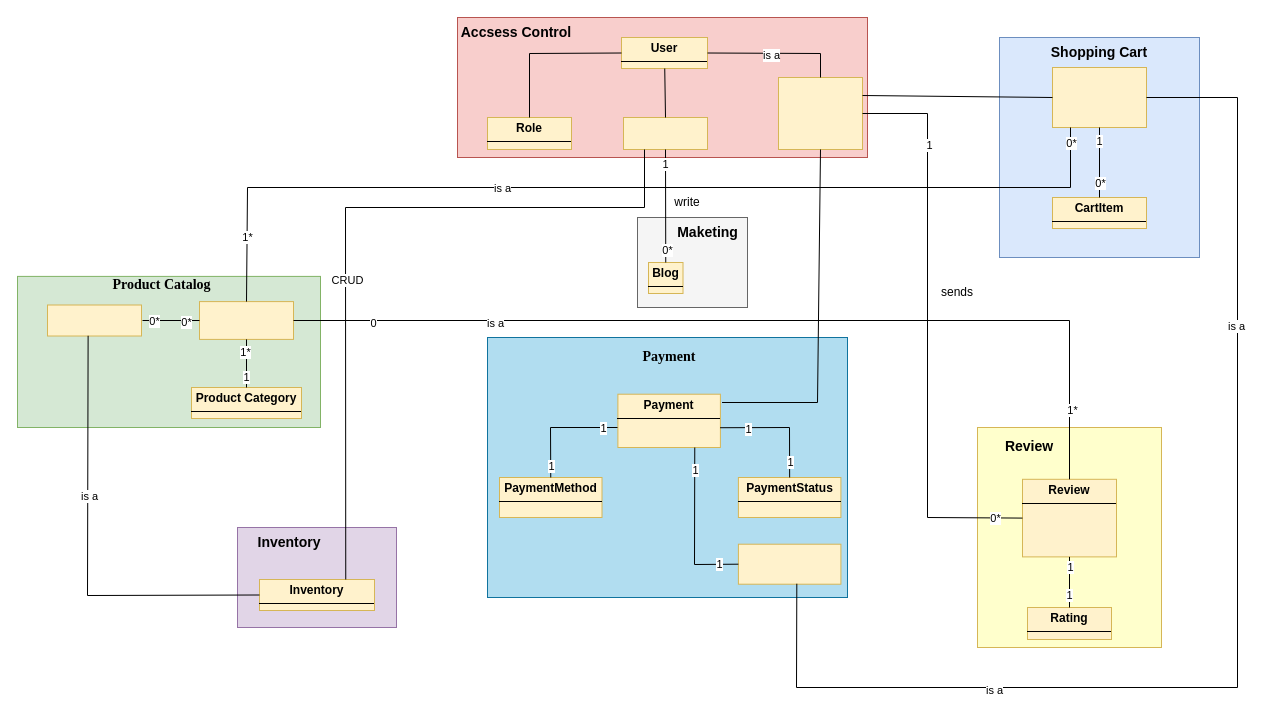
Image size: 1262x714. Some labels were removed from this diagram. The centre of each missing label's shape, as x and y in pixels:
"Buyer" goes at (820,113).
"Cart" goes at (1099,97).
"Inventory info" goes at (94,320).
"OrderDetail" goes at (789,563).
"Product" goes at (246,320).
"SysAdmin" goes at (665,133).
